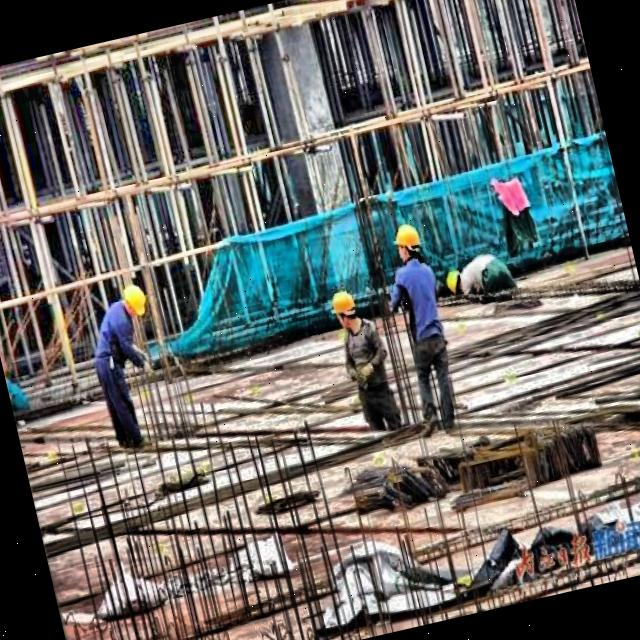helmet: (326, 286, 362, 333), (388, 220, 423, 264), (118, 282, 150, 322), (441, 265, 469, 298)
